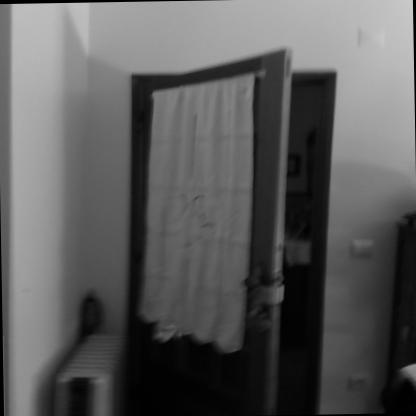semi: (130, 39, 354, 415)
